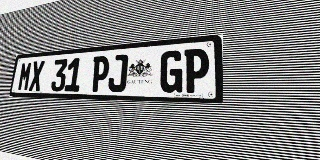1: (64, 58, 83, 92)
3: (50, 59, 68, 91)
G: (159, 50, 184, 93)
J: (107, 54, 128, 92)
M: (17, 61, 33, 91)
P: (183, 48, 209, 93), (90, 55, 110, 92)
X: (28, 60, 45, 91)
